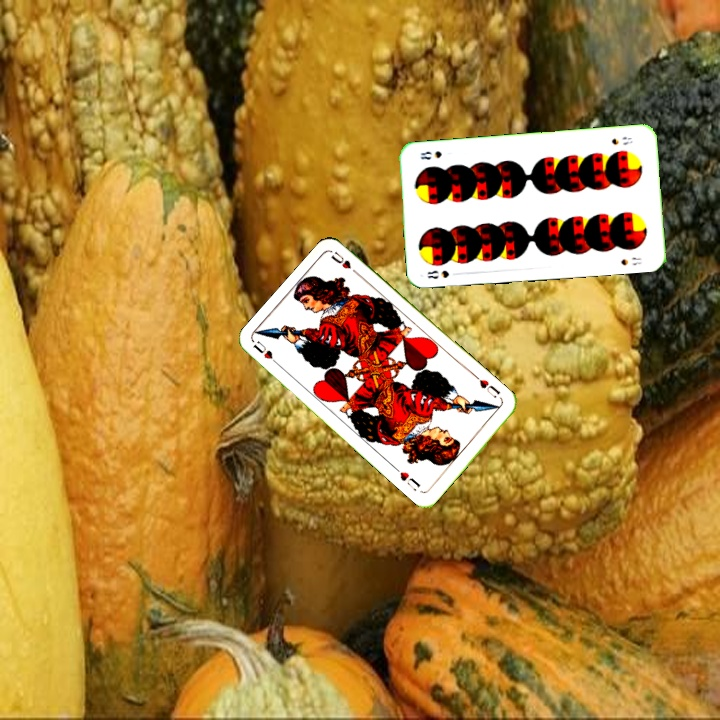HU: (249, 337, 283, 369), (475, 375, 503, 401)
S8: (423, 266, 452, 282), (608, 133, 635, 147)
